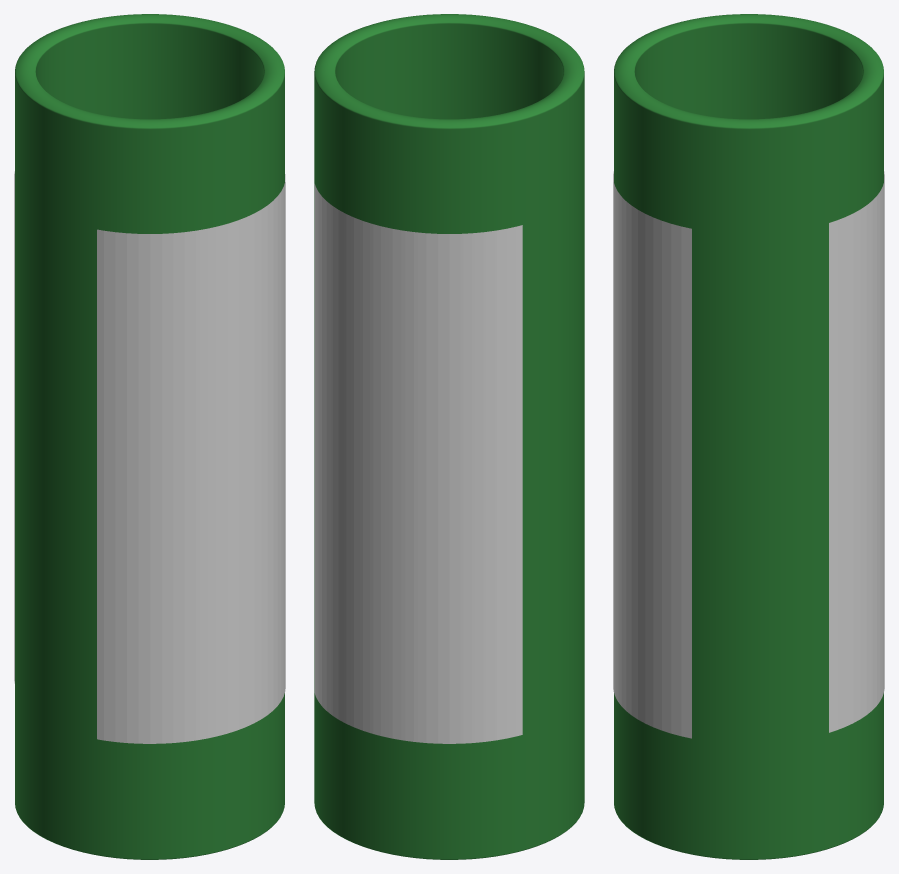
The model's file is newGlassCandle.glb.
The picture shows the model from 3 angles, left to right: view 1: azimuth 30°, elevation 25°; view 2: azimuth 150°, elevation 25°; view 3: azimuth 270°, elevation 25°; orthographic projection.
Parts seen in each view (by area): view 1: glass, Label1; view 2: glass, Label2; view 3: glass, Label1, Label2.
Boxes of the visible parts, <box> form: glass: <box>15,14,284,859</box>; Label1: <box>97,174,285,743</box>; glass: <box>314,14,584,859</box>; Label2: <box>314,184,522,743</box>; glass: <box>614,14,883,859</box>; Label1: <box>613,171,691,738</box>; Label2: <box>829,171,884,732</box>.
Size of the model in its own units: 0.04 by 0.12 by 0.0402.
